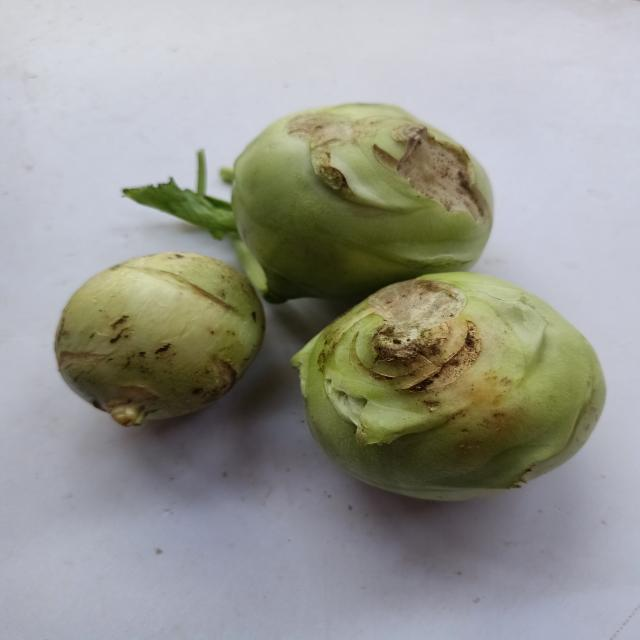Turnip: (114, 99, 507, 310), (288, 271, 620, 517), (46, 253, 268, 432)
